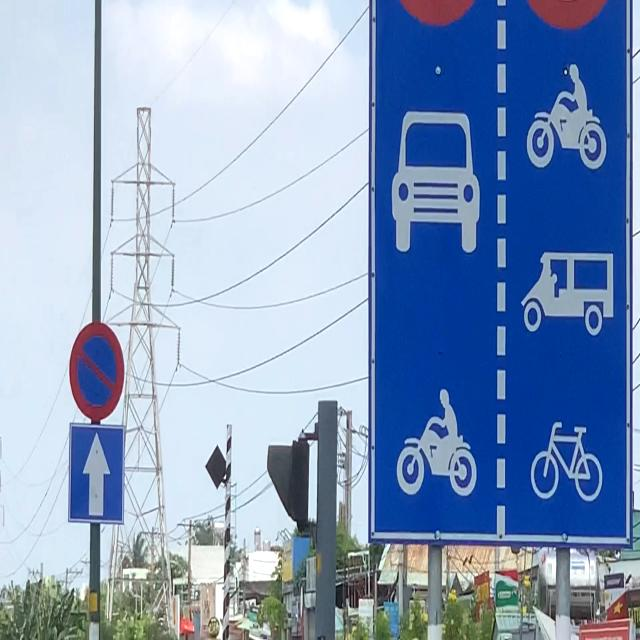P.131a: (69, 321, 125, 422)
R.407a: (66, 421, 127, 526)
